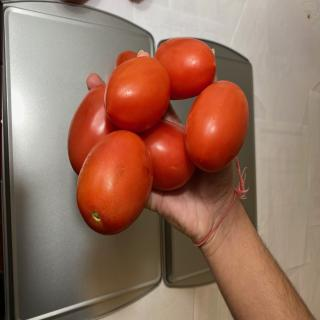Chilli: (68, 36, 250, 235)
Tomato: (76, 130, 153, 235), (184, 80, 249, 172), (104, 56, 171, 132), (67, 84, 119, 175), (140, 120, 196, 190), (154, 37, 216, 100), (115, 50, 137, 69)
